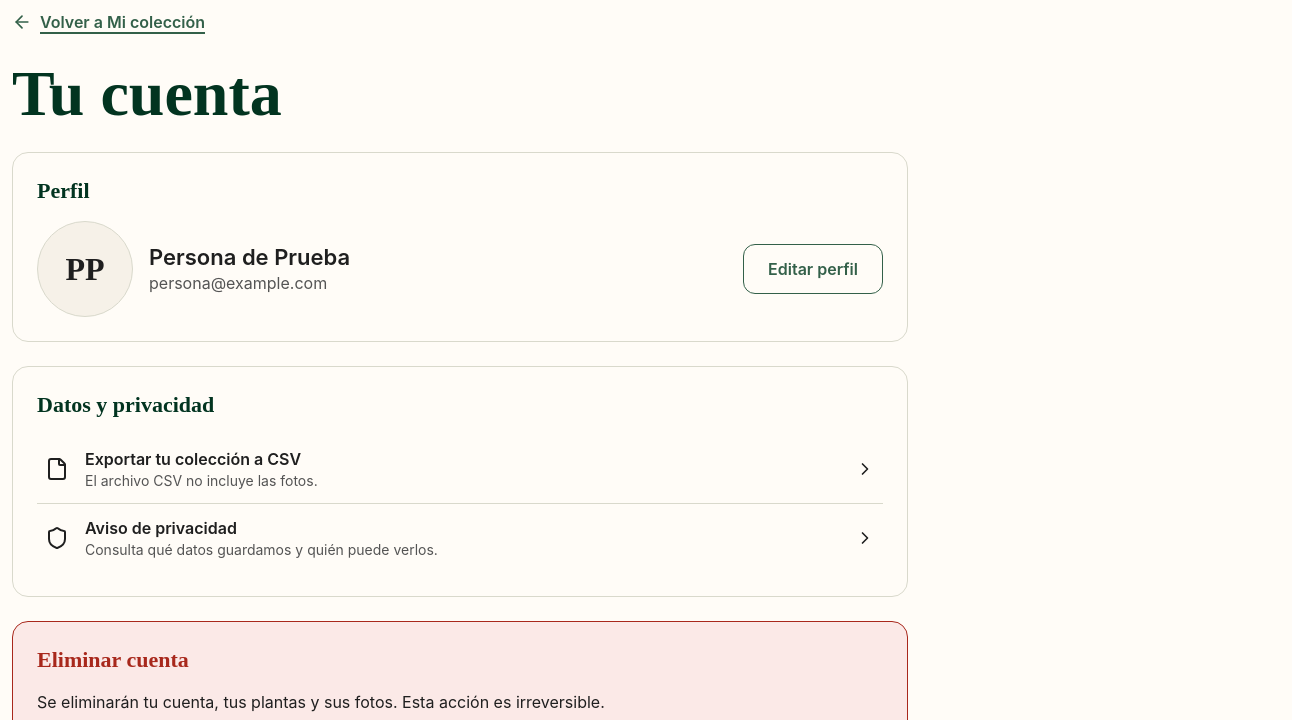
AccountPage: rediseño de «Tu cuenta» (#214) › exportar con plantas: el mismo CSV que «Mi colección» y el resultado anunciado
Click the button "Exportar tu colección a CSV" at (193,459), box [37,435,883,503]
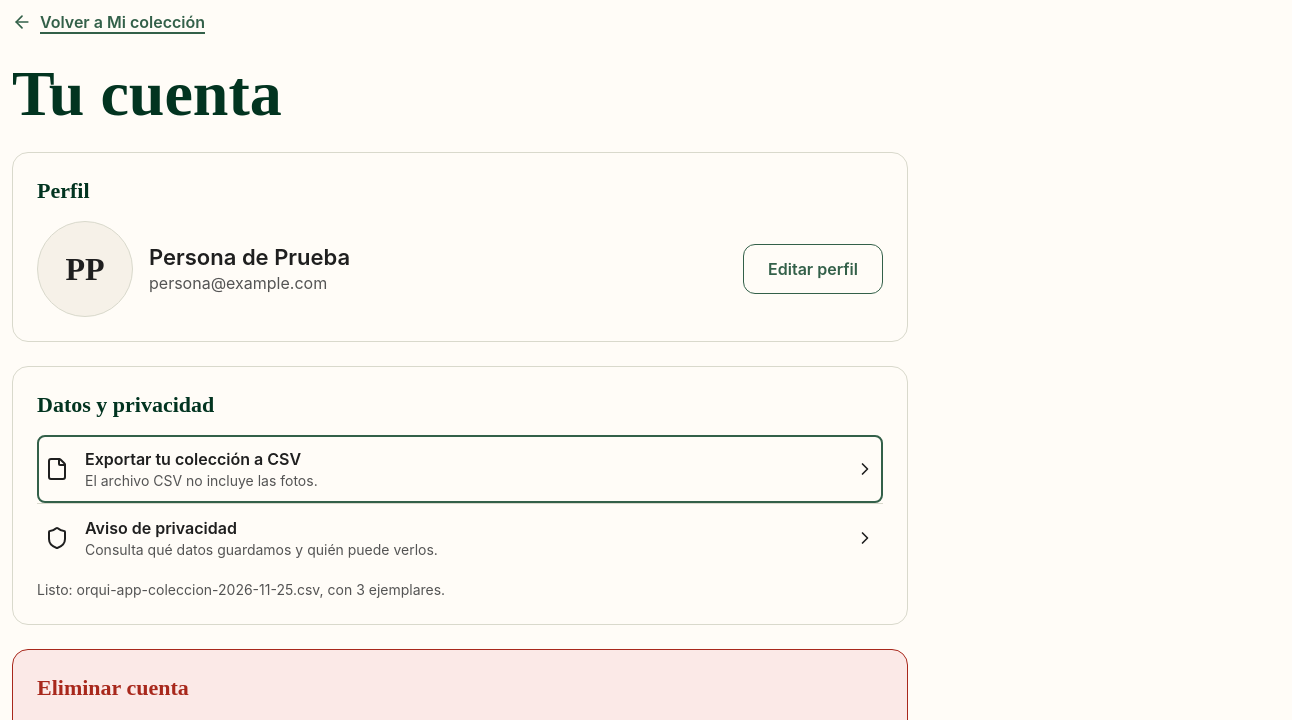
Expected: the message reads "Listo: orqui-app-coleccion-2026-11-25.csv, con 3 ejemplares.", [37,581,445,598]
